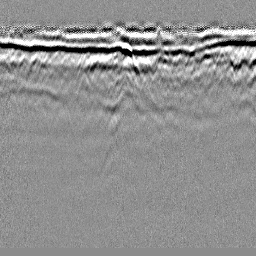cavity: (121, 39, 139, 70)
